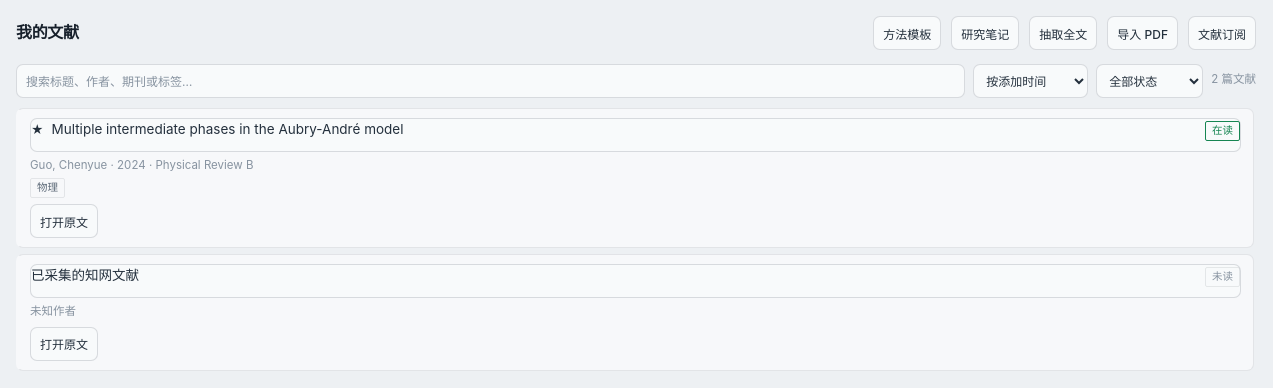
Test: LibraryPage — 我的文献 › 搜索过滤按标题/作者/期刊匹配
This screenshot has width=1273, height=388.
Check: the number of list items with test id "library-paper-item" is 2, box [16,108,1254,248]; [16,254,1254,371]
Type "Aubry" into the field with test id "library-filter-input". click: (491, 81)
box: [16,64,965,98]
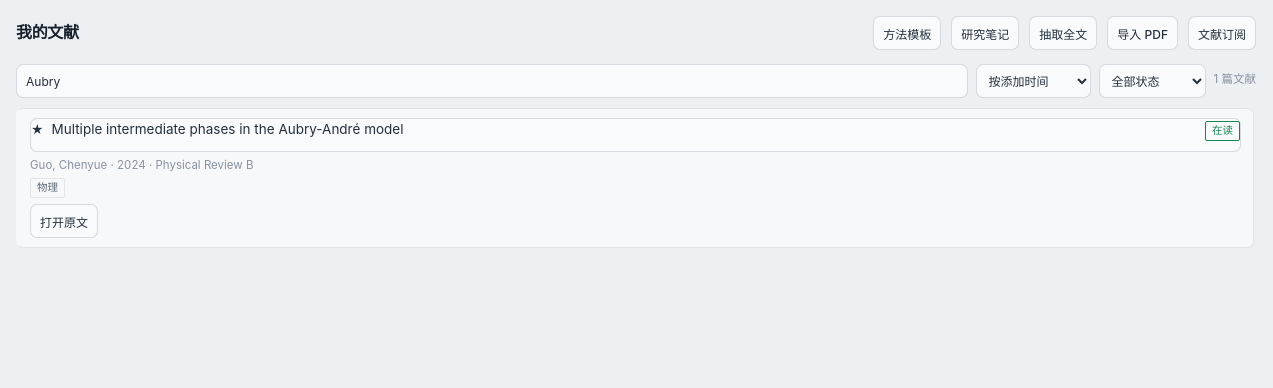
Check: the text "Multiple intermediate phases in the Aubry-André model" is shown, box [52,121,403,137]
Check: the number of list items with test id "library-paper-item" is 1, box [16,108,1254,248]
Replace the text in the field with test id "library-filter-input" with "不存在的关键词". click: (492, 81)
box: [16,64,968,98]
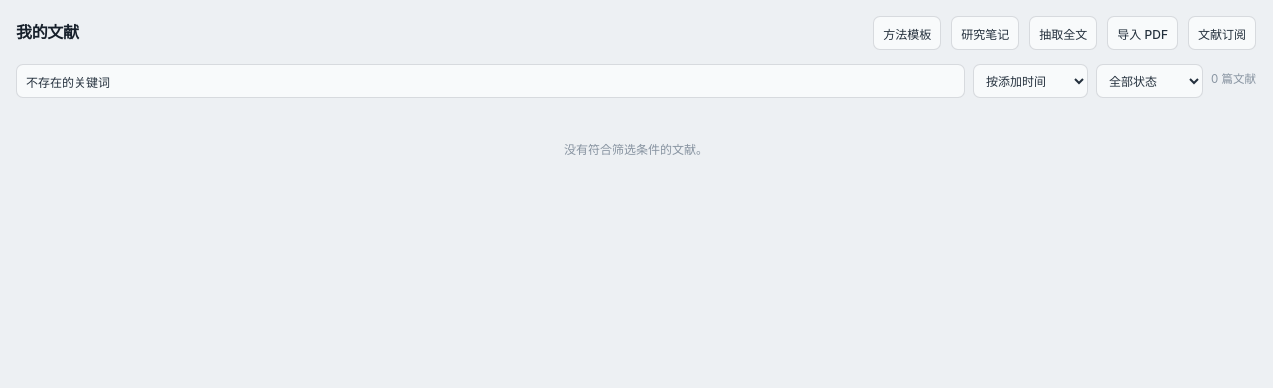
Check: the element with test id "library-empty" is shown, box [564,142,708,157]
